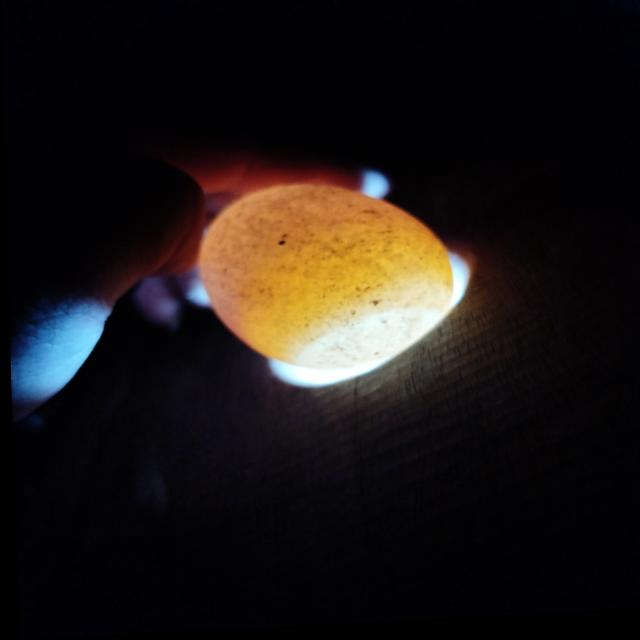Camara de Ar: (292, 313, 441, 372)
